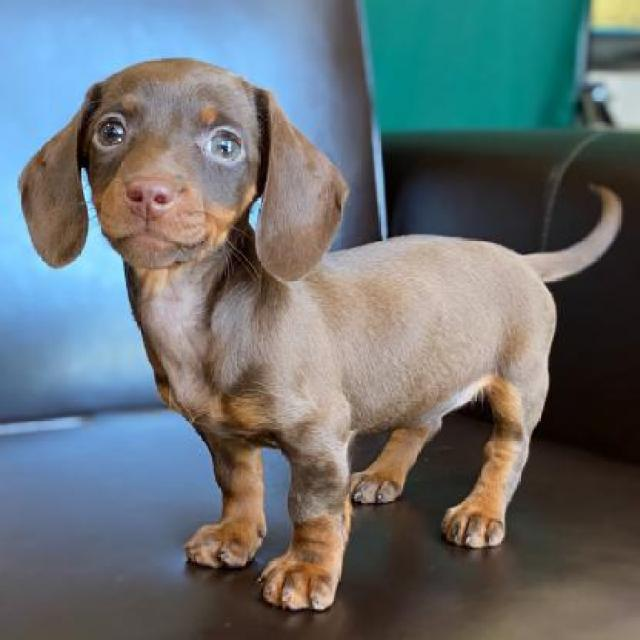Dog: (20, 52, 629, 614)
